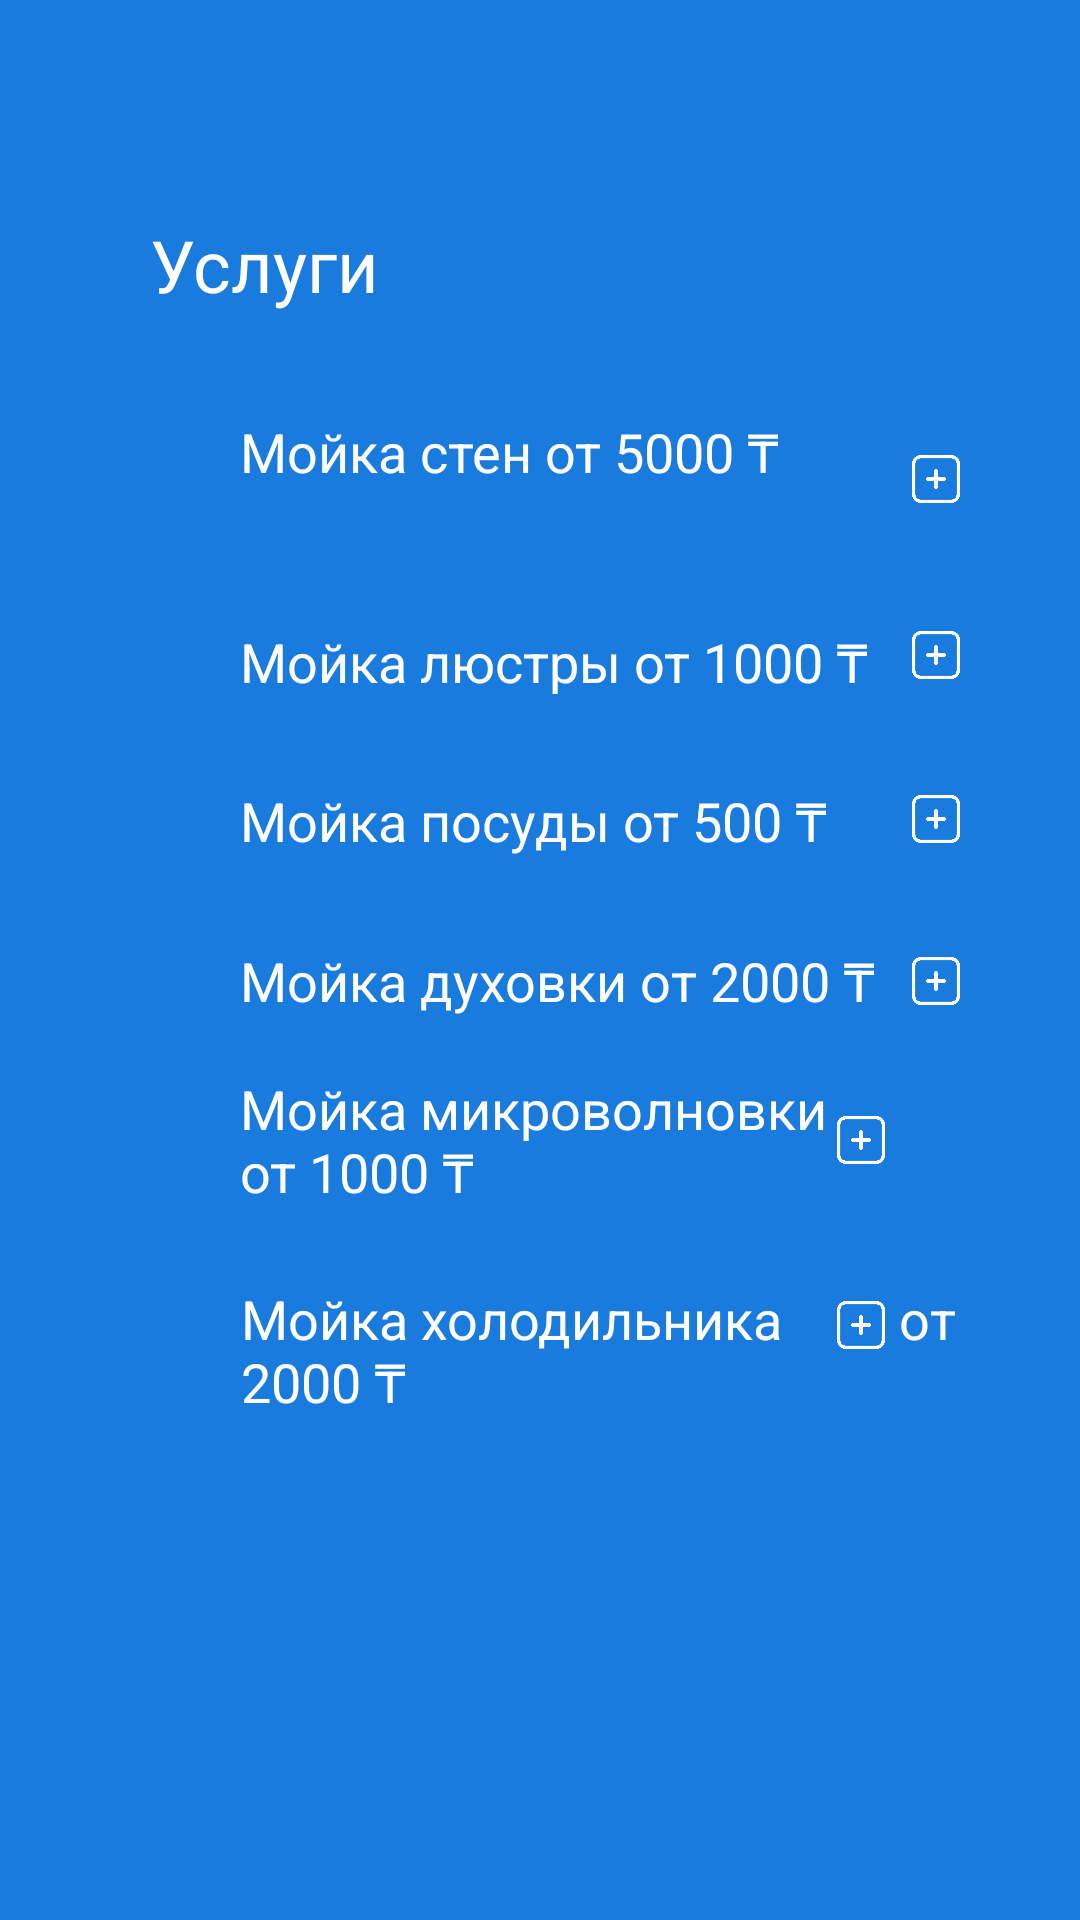

Icons on this 1080*1920 Android screen, each with its box as bbox=[x1, y1, x2, y2]:
add: bbox=[912, 455, 960, 503], bbox=[912, 631, 960, 679], bbox=[912, 795, 960, 843], bbox=[912, 957, 960, 1005], bbox=[837, 1116, 885, 1164], bbox=[837, 1301, 885, 1349]
